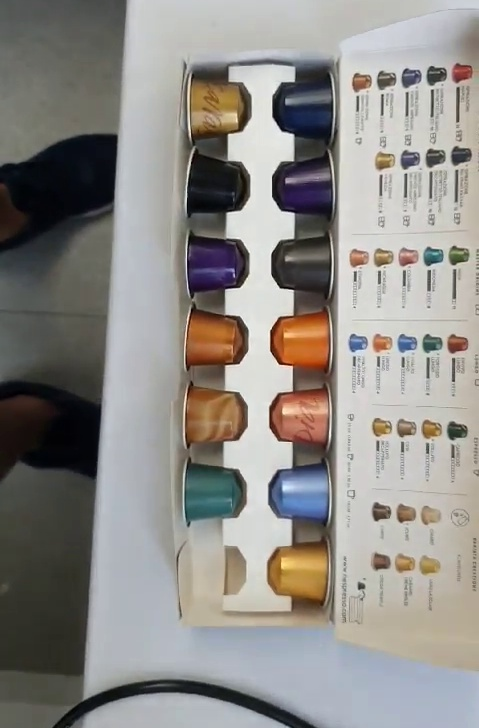capsule_12: (171, 383, 251, 454)
